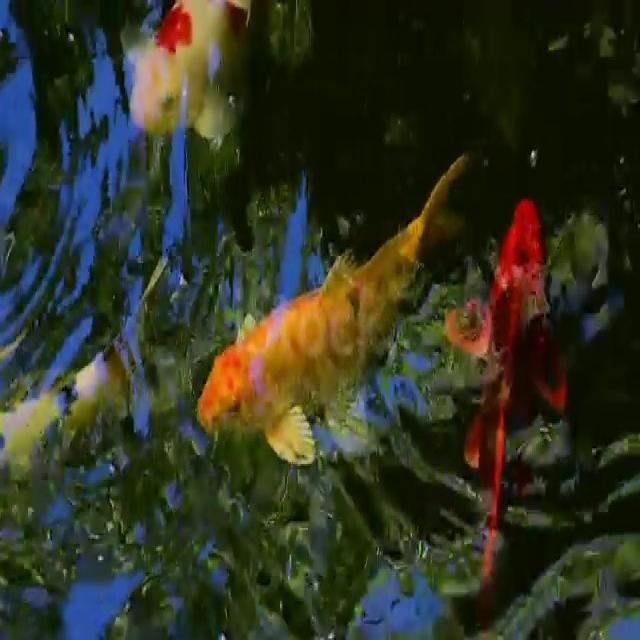fish: (193, 158, 500, 480), (448, 168, 572, 640), (2, 252, 180, 476), (115, 0, 264, 152)
